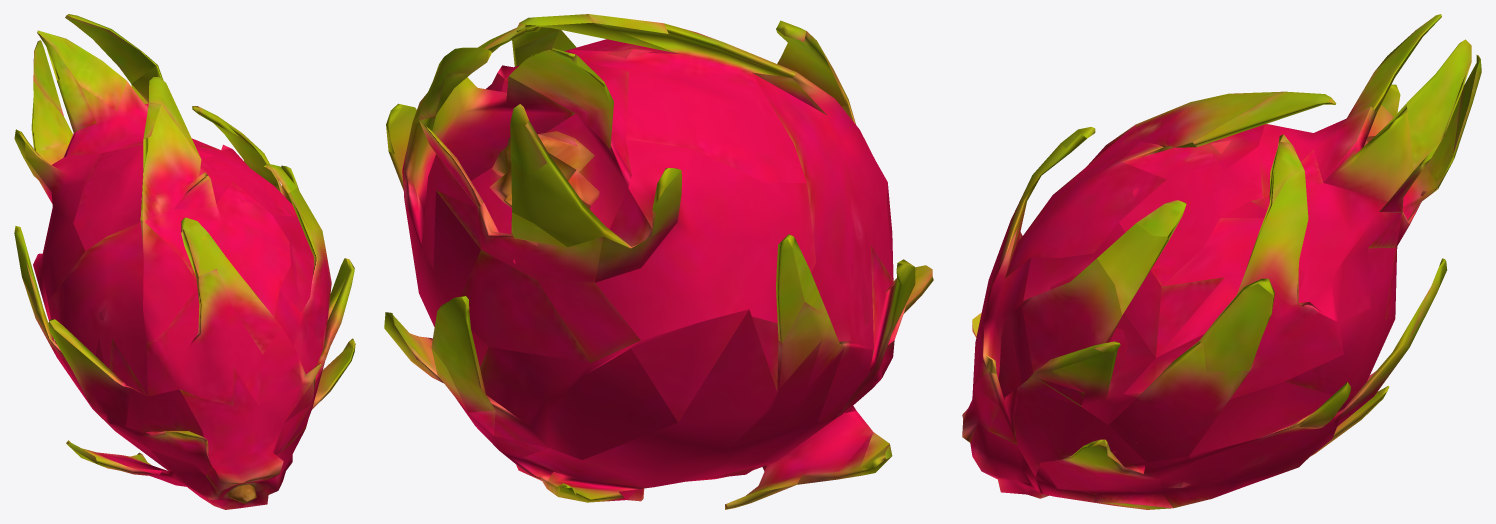
Rendered from dragonfruit.glb.
3 views of the same model, side by side, from view 1: azimuth 30°, elevation 25°; view 2: azimuth 150°, elevation 25°; view 3: azimuth 270°, elevation 25° (orthographic). The views are drawn at different scales.
Size of the model in its own units: 0.7754 by 0.9707 by 0.998.
Materials: 1 (1 with a texture image).
